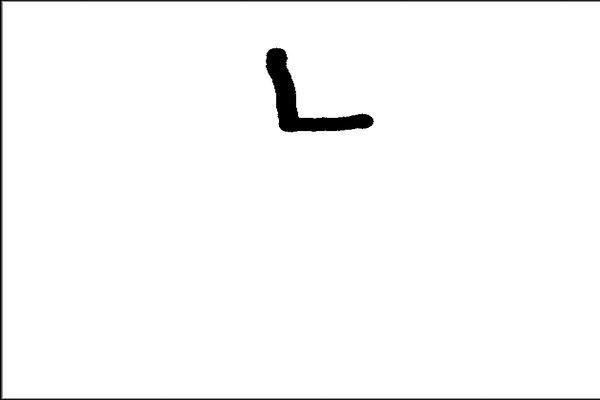L: (259, 43, 380, 140)
